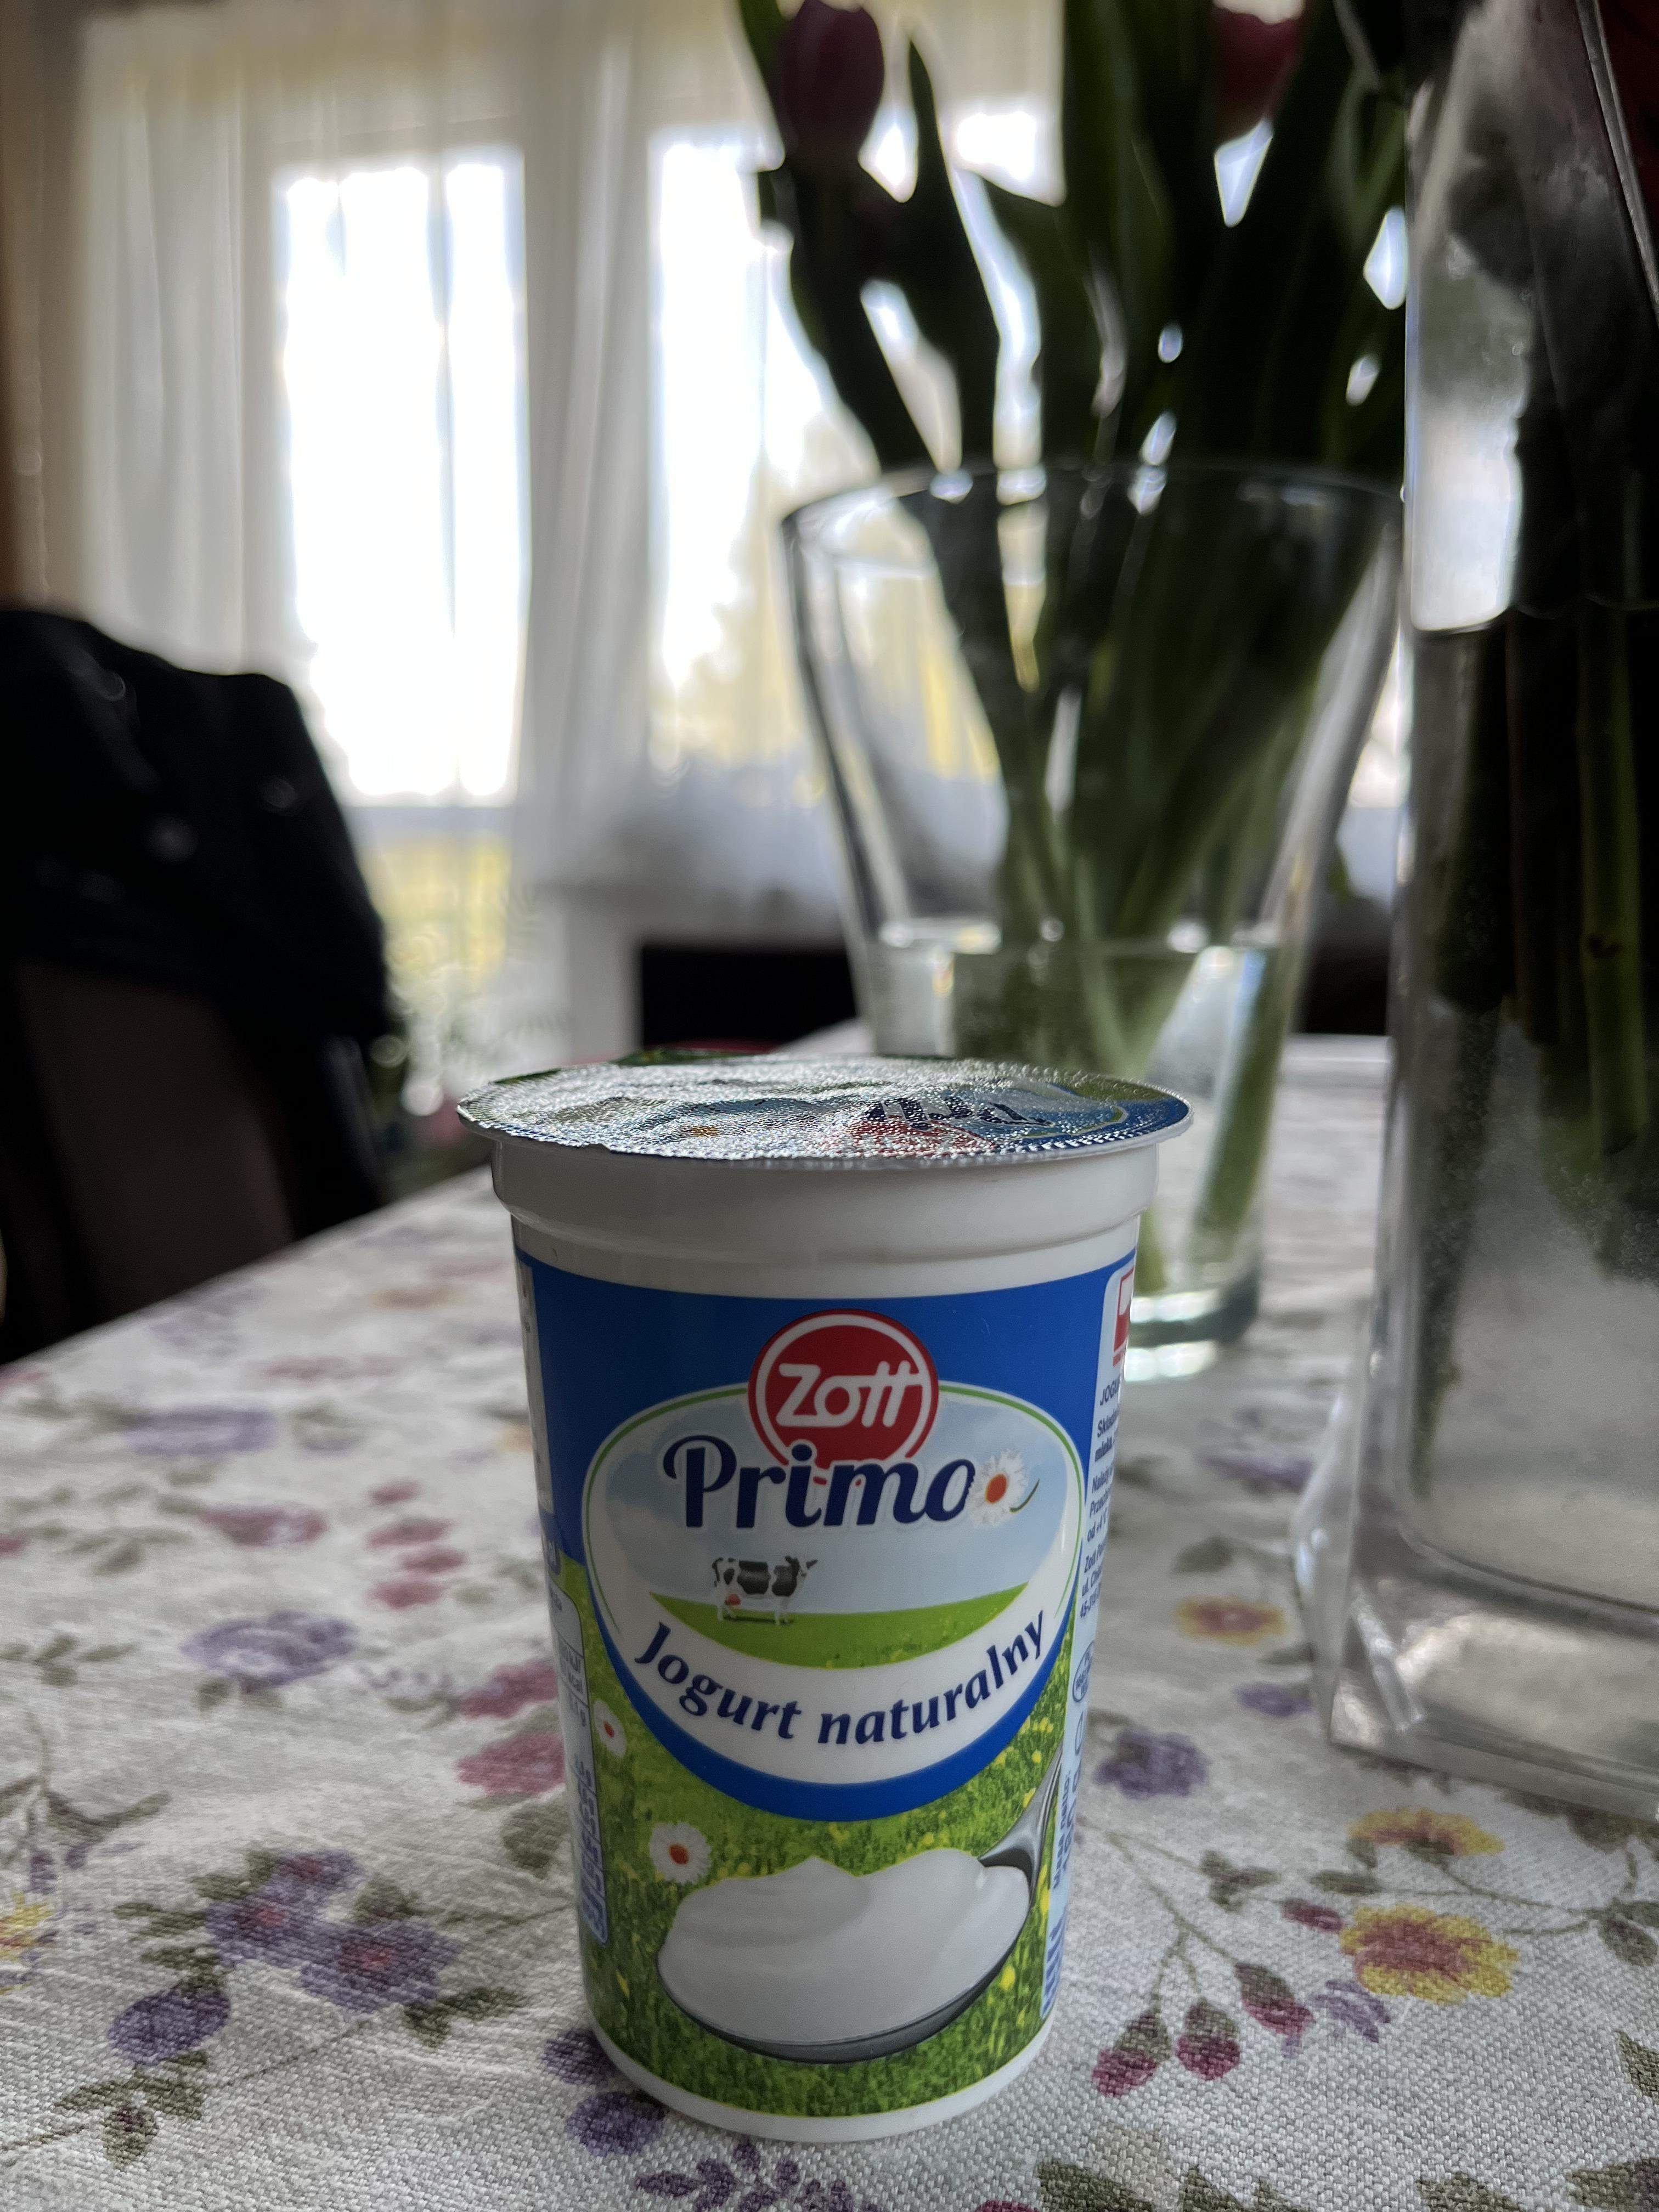Yogurt: (479, 1068, 1152, 2149)
